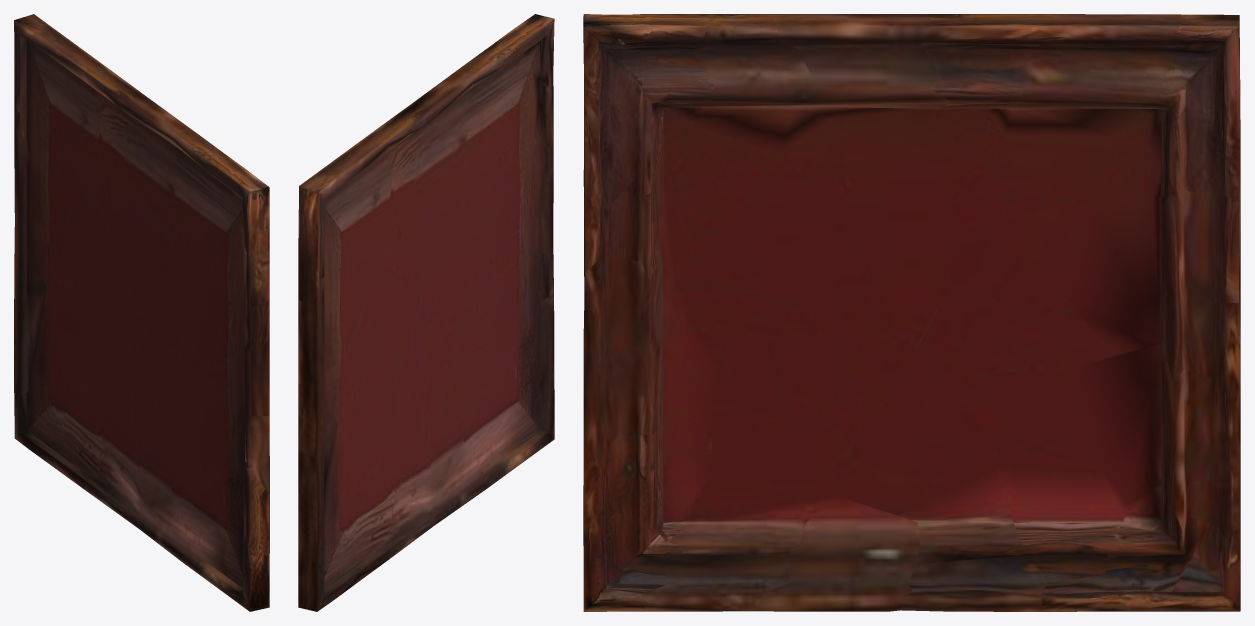
The model's file is 酒馆招牌木板.glb.
The picture shows the model from 3 angles, left to right: view 1: azimuth 30°, elevation 25°; view 2: azimuth 150°, elevation 25°; view 3: azimuth 270°, elevation 25°; orthographic projection. The views are drawn at different scales.
Parts seen in each view (by area): view 1: tripo_node_5a1fc18d-ddc9-4730-adb3-989fdb131417; view 2: tripo_node_5a1fc18d-ddc9-4730-adb3-989fdb131417; view 3: tripo_node_5a1fc18d-ddc9-4730-adb3-989fdb131417.
Boxes of the visible parts, x1,y1,x2,y2 form: tripo_node_5a1fc18d-ddc9-4730-adb3-989fdb131417: (14, 14, 269, 611); tripo_node_5a1fc18d-ddc9-4730-adb3-989fdb131417: (298, 14, 554, 611); tripo_node_5a1fc18d-ddc9-4730-adb3-989fdb131417: (583, 14, 1240, 611).
Size of the model in its own units: 0.0526 by 0.9922 by 0.9998.
Materials: 1 (1 with a texture image).
